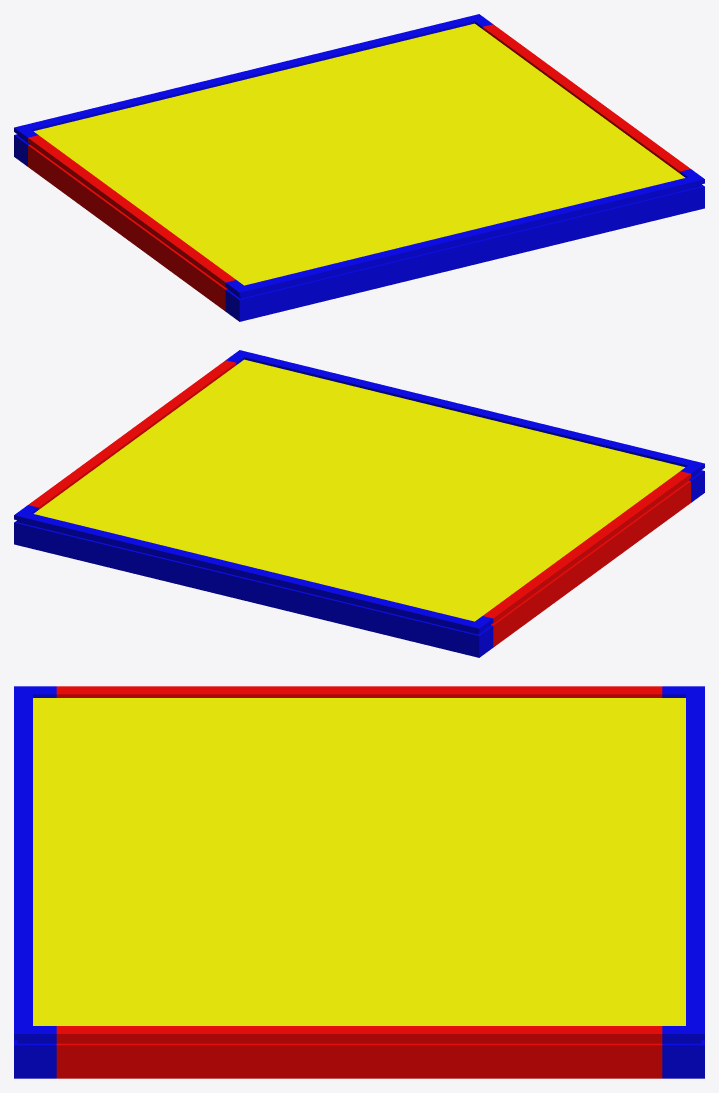
The model's file is test-parent-child.glb.
3 views of the same model, one above another, from view 1: azimuth 30°, elevation 25°; view 2: azimuth 150°, elevation 25°; view 3: azimuth 270°, elevation 25° (orthographic). The views are drawn at different scales.
Parts seen in each view (by area): view 1: vetro1_var_z., metallo4_fixed, metallo1_var_z, metallo3_fixed, metallo2_var_z; view 2: vetro1_var_z., metallo3_fixed, metallo1_var_z, metallo4_fixed, metallo2_var_z; view 3: vetro1_var_z., metallo2_var_z, metallo3_fixed, metallo4_fixed, metallo1_var_z.
Part boxes in pixels (<box>): vetro1_var_z.: <box>34,23,685,285</box>; metallo4_fixed: <box>225,169,704,321</box>; metallo1_var_z: <box>28,135,235,311</box>; metallo3_fixed: <box>14,14,492,166</box>; metallo2_var_z: <box>482,24,690,173</box>; vetro1_var_z.: <box>33,359,684,621</box>; metallo3_fixed: <box>14,505,493,657</box>; metallo1_var_z: <box>483,471,690,647</box>; metallo4_fixed: <box>226,350,704,502</box>; metallo2_var_z: <box>28,360,236,509</box>; vetro1_var_z.: <box>33,698,685,1025</box>; metallo2_var_z: <box>56,1026,662,1078</box>; metallo3_fixed: <box>662,686,704,1078</box>; metallo4_fixed: <box>14,686,56,1078</box>; metallo1_var_z: <box>56,686,662,697</box>.
Size of the model in its own units: 0.5 by 0.03 by 0.42.
